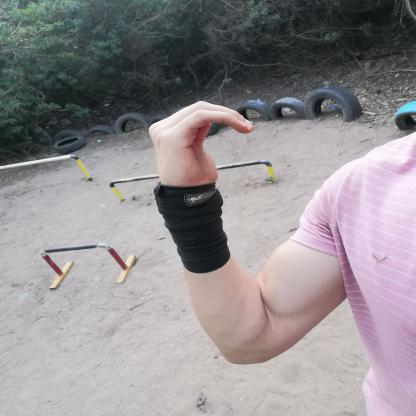HAA: (130, 91, 266, 208)
